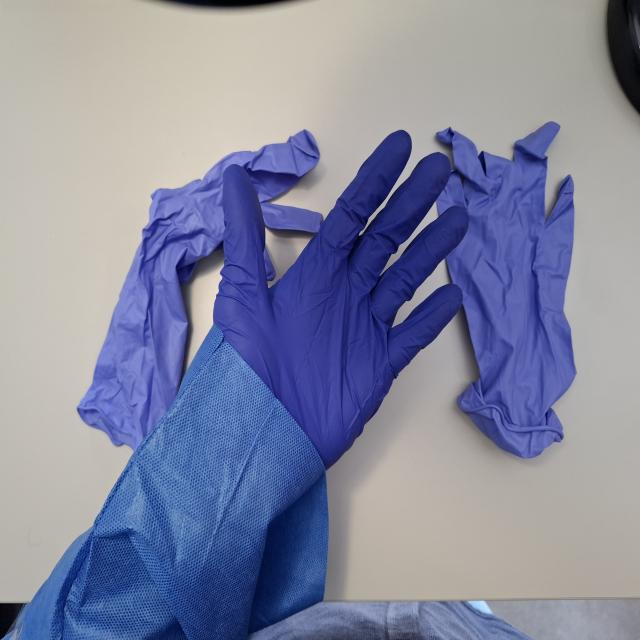glove_on: (210, 126, 472, 471)
